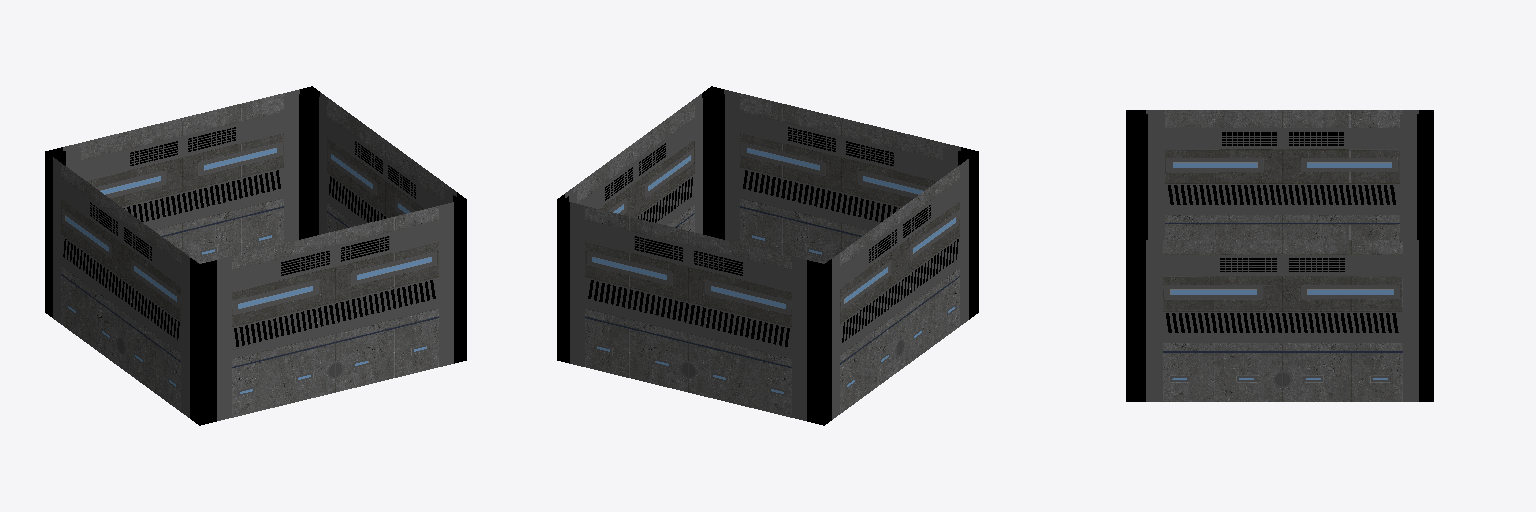
3 renders of one model, left to right at view 1: azimuth 30°, elevation 25°; view 2: azimuth 150°, elevation 25°; view 3: azimuth 270°, elevation 25°, orthographic.
Visible parts, largest first — view 1: pasted__polySurface3 pasted__shittytop pasted__Mesh group; view 2: pasted__polySurface3 pasted__shittytop pasted__Mesh group; view 3: pasted__polySurface3 pasted__shittytop pasted__Mesh group.
Boxes of the visible parts, x1=… form: pasted__polySurface3 pasted__shittytop pasted__Mesh group: x1=45, y1=86, x2=466, y2=425; pasted__polySurface3 pasted__shittytop pasted__Mesh group: x1=557, y1=86, x2=978, y2=425; pasted__polySurface3 pasted__shittytop pasted__Mesh group: x1=1126, y1=110, x2=1433, y2=401.
Bounding box in the file's own units: 10.2 × 5.9 × 10.2.
Materials: 1 (1 with a texture image).